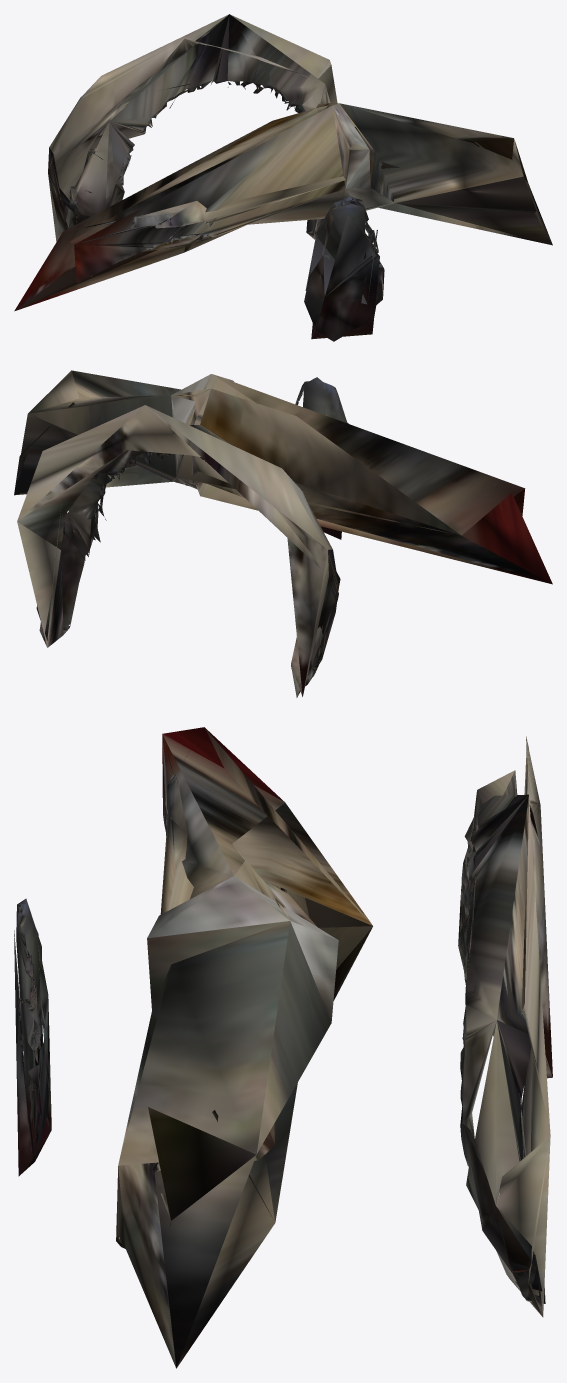
Rendered from presa_vampiro_ymiria.glb.
3 views of the same model, one above another, from view 1: azimuth 30°, elevation 25°; view 2: azimuth 150°, elevation 25°; view 3: azimuth 270°, elevation 25° (orthographic). The views are drawn at different scales.
Visible parts, largest first — view 1: geometry_0; view 2: geometry_0; view 3: geometry_0.
Boxes of the visible parts, left/top/right/bottom form: geometry_0: left=14, top=14, right=552, bottom=341; geometry_0: left=14, top=370, right=552, bottom=697; geometry_0: left=14, top=727, right=552, bottom=1368.
Size of the model in its own units: 1 by 0.455 by 0.499.
1 material, 1 textured.
